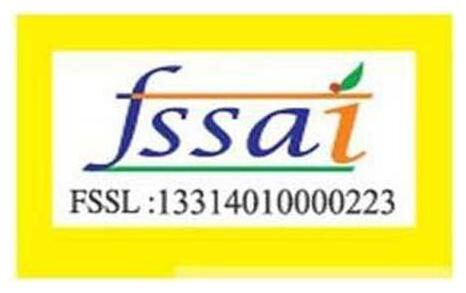fssai: (81, 62, 369, 172)
